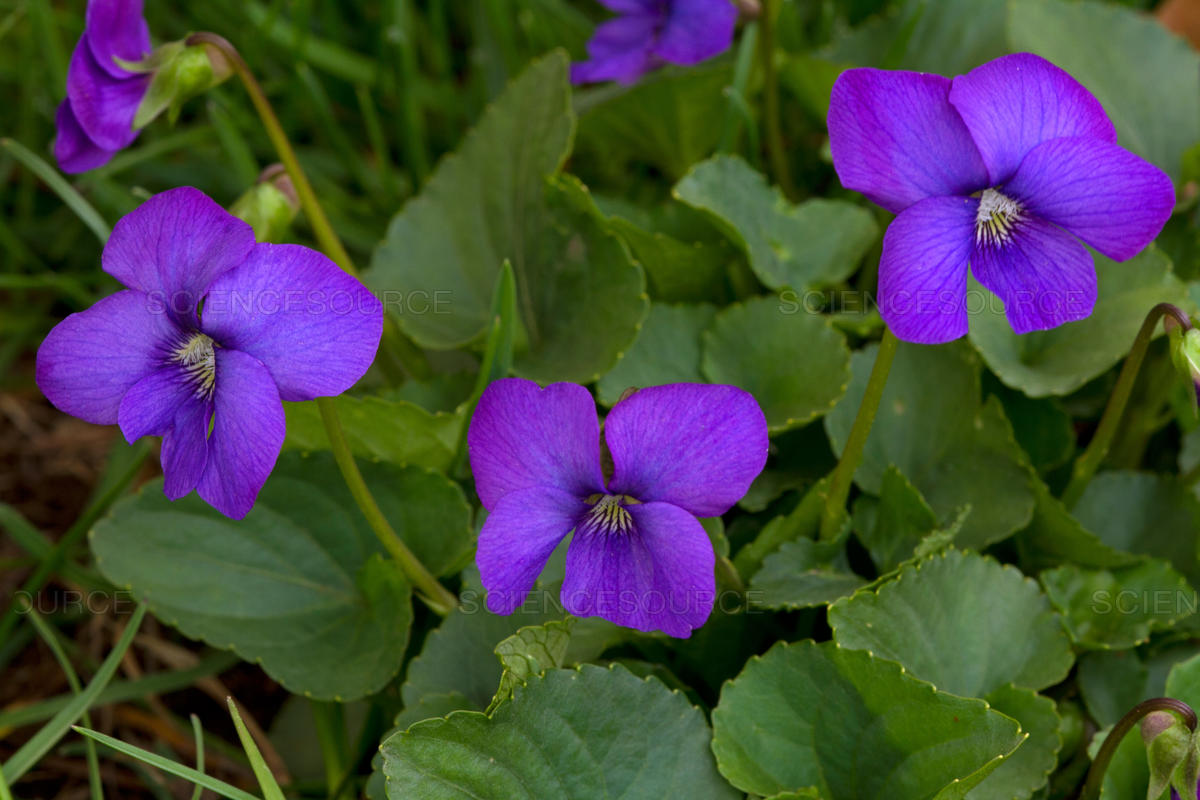violet: (31, 180, 382, 503), (816, 51, 1174, 352), (451, 358, 771, 642), (56, 5, 241, 168), (562, 1, 746, 91)
